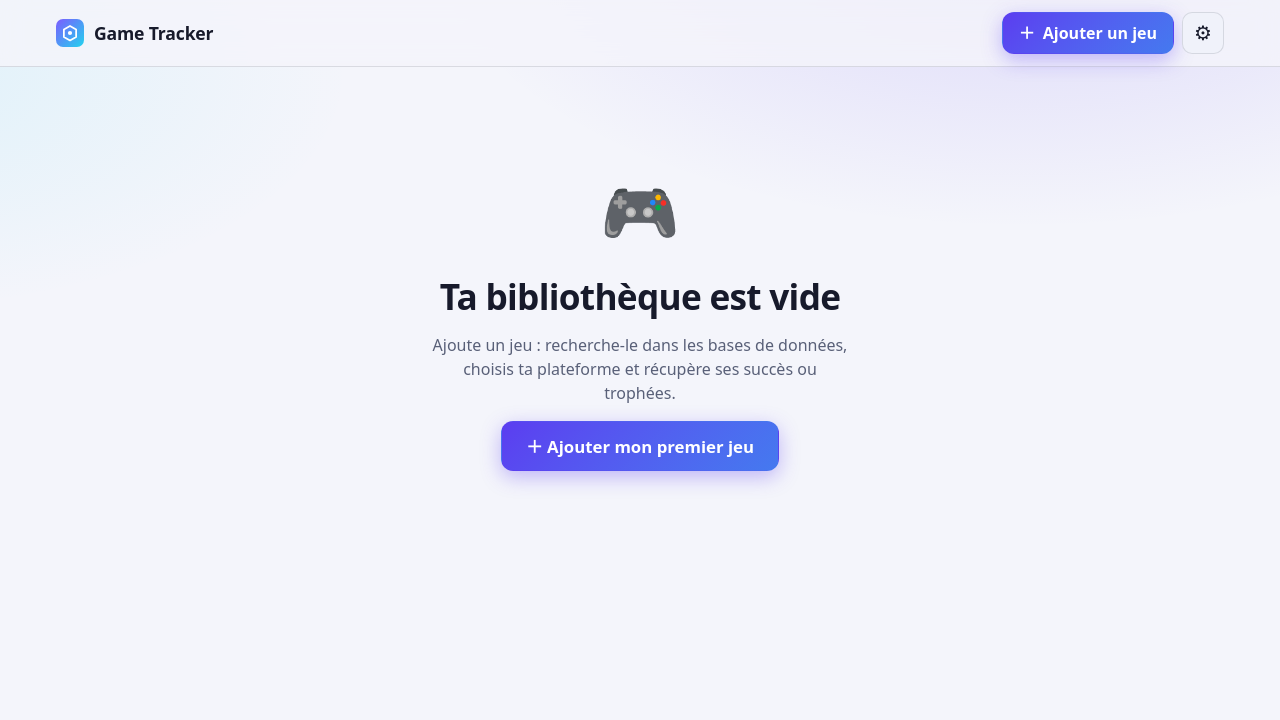
Scenario: first use › adds a game by hand when nothing is found
Click the button "＋ Ajouter mon premier jeu". click: (640, 446)
box: x1=501 y1=421 x2=779 y2=471
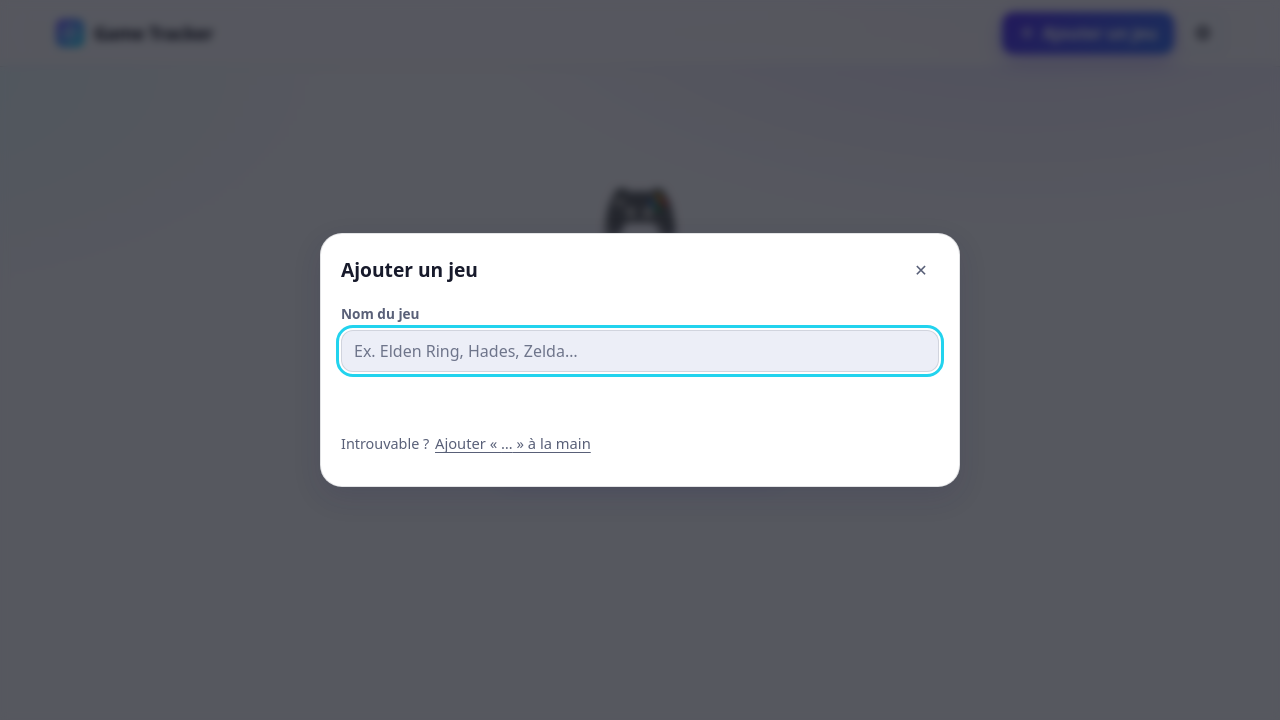
Type "Mon jeu indé" into the search field labelled "Nom du jeu". click: (640, 351)
box: x1=341 y1=330 x2=939 y2=372
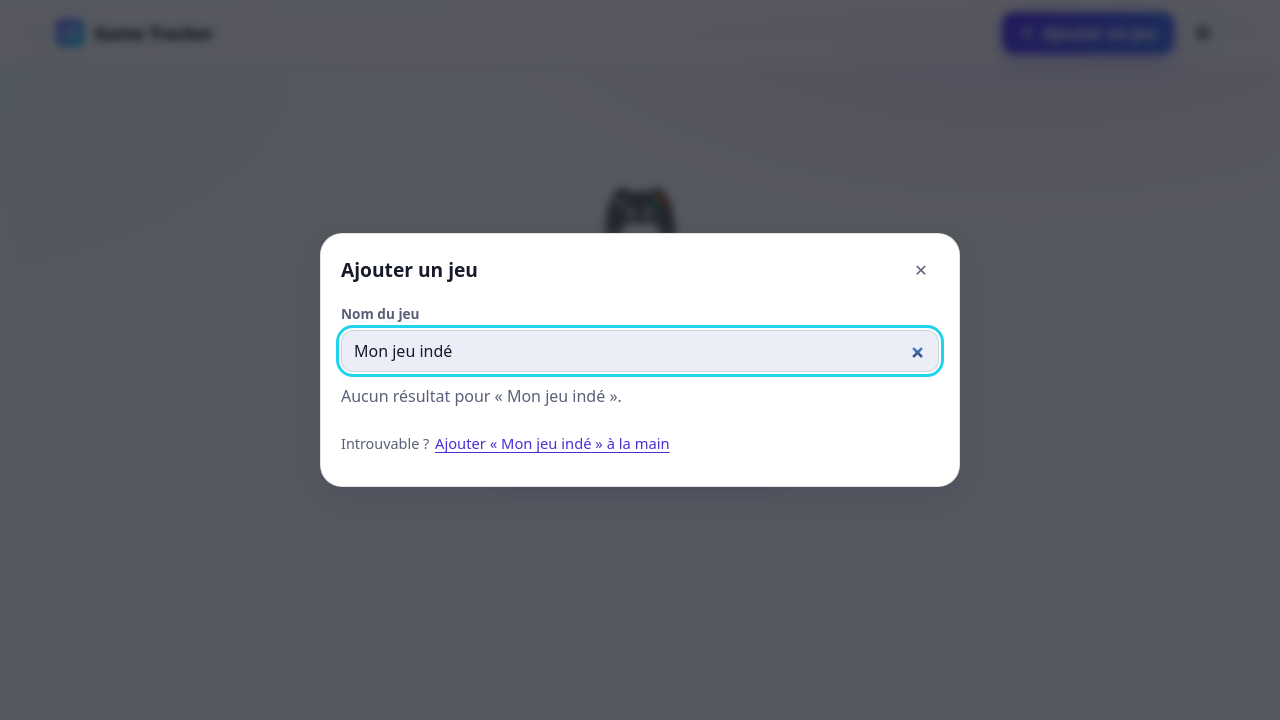
Now the text "Aucun résultat pour « Mon jeu indé »." is shown, box x1=341 y1=385 x2=622 y2=407
Click the button "Ajouter « Mon jeu indé » à la main". click: (552, 443)
box: x1=433 y1=428 x2=672 y2=458
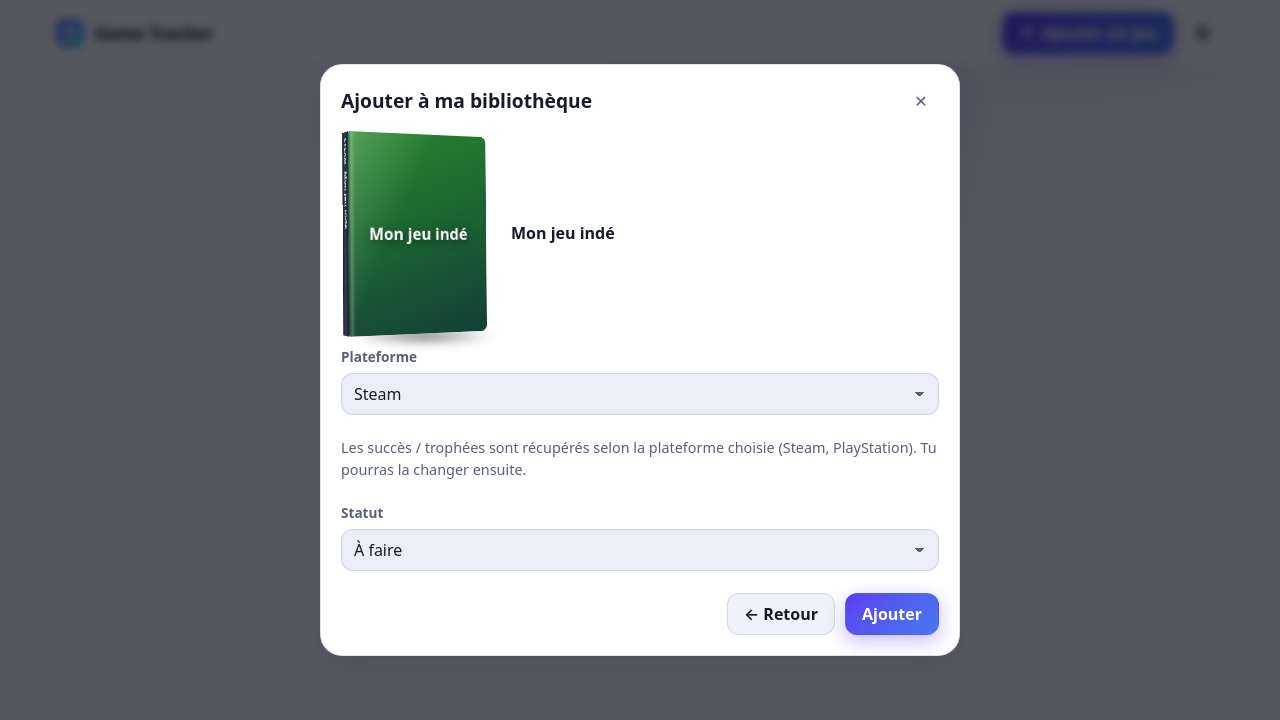
Select "Nintendo Switch" in the dropdown labelled "Plateforme". click: (640, 394)
box: x1=341 y1=373 x2=939 y2=415
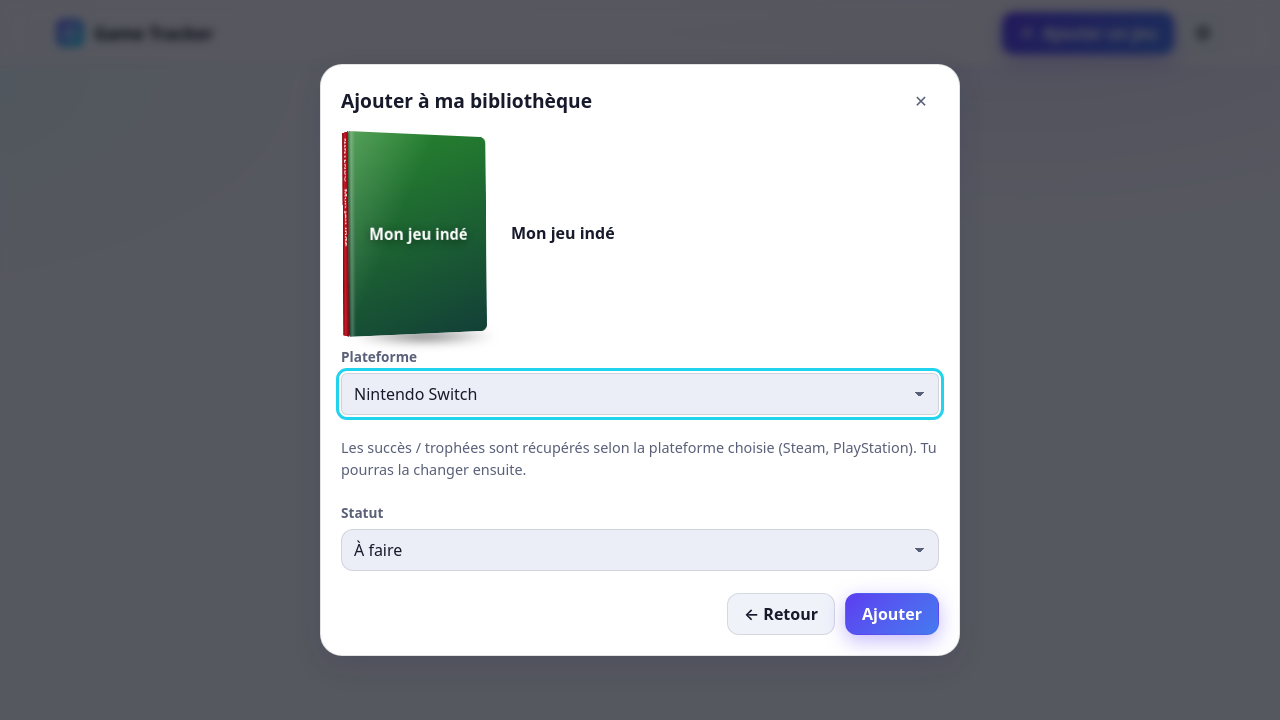
Click the button "Ajouter". click: (892, 614)
box: x1=845 y1=593 x2=939 y2=635
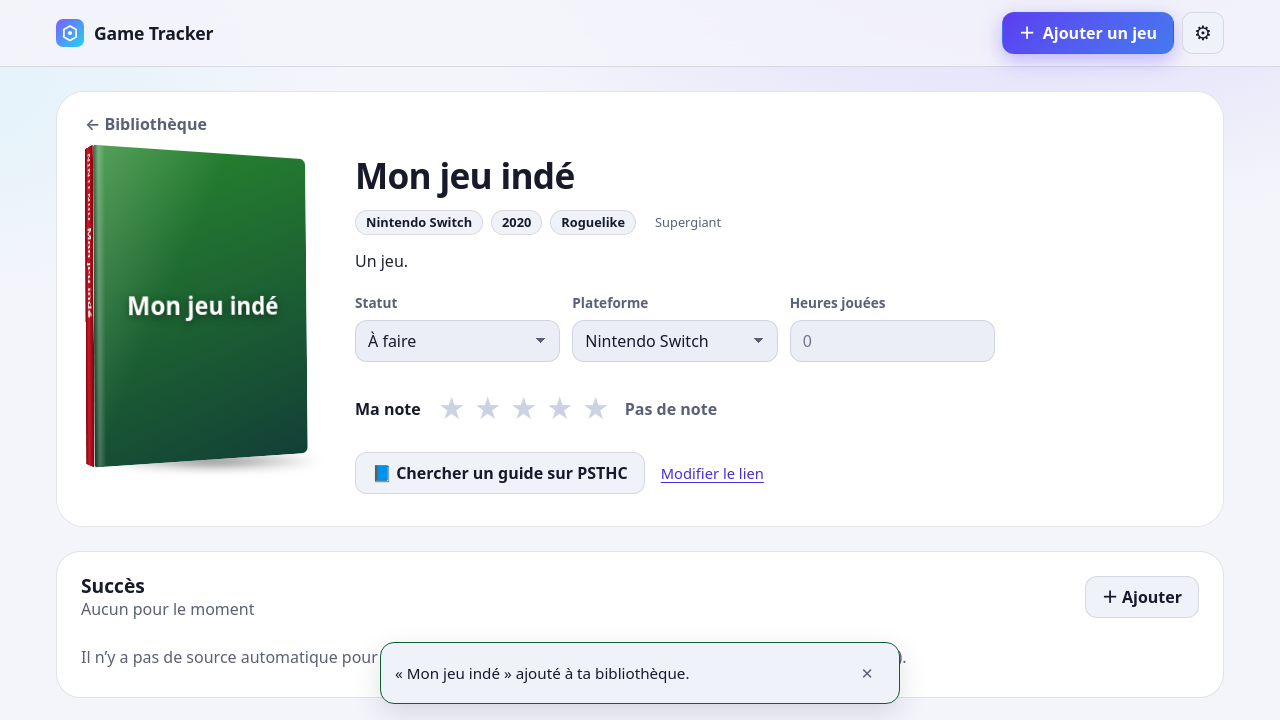
Now the heading "Mon jeu indé" is shown, box x1=355 y1=151 x2=574 y2=199
Now the text "pas de source automatique" is shown, box x1=81 y1=646 x2=596 y2=668
